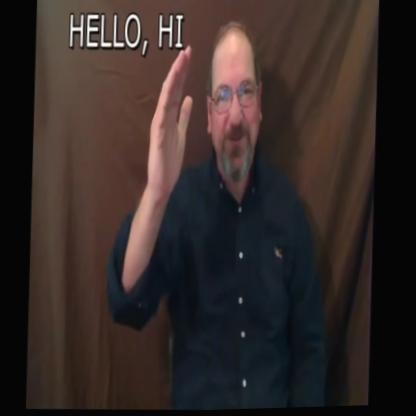Hello: (149, 10, 270, 235)
